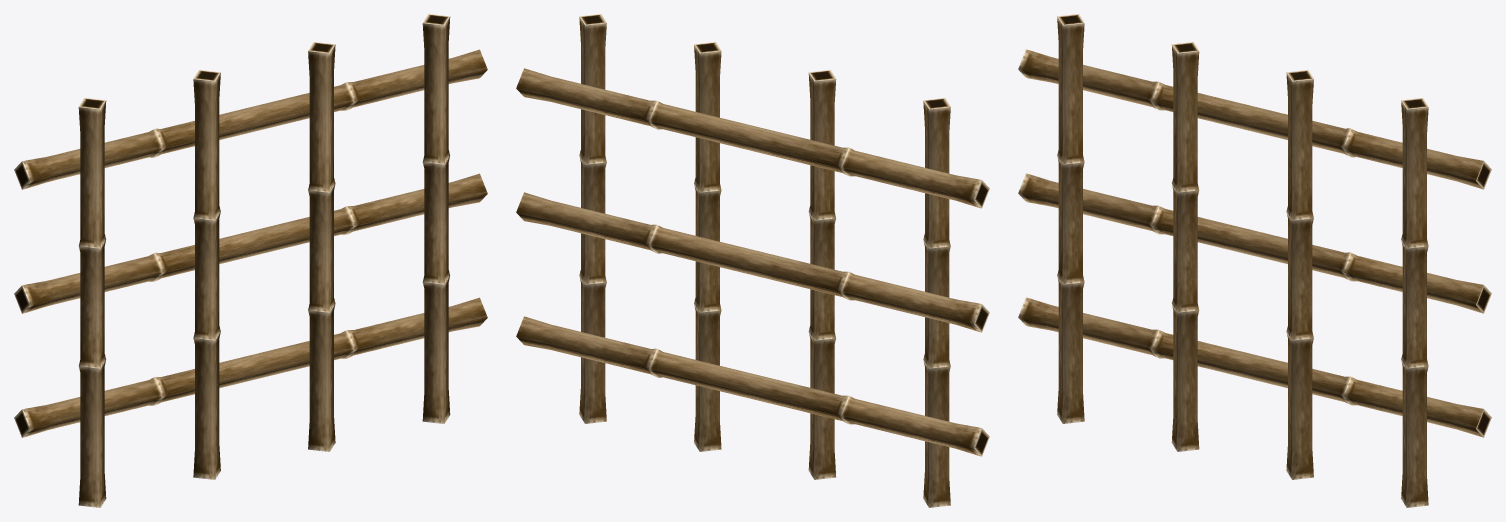
The model's file is bamboo_fence.fbx.
The picture shows the model from 3 angles, left to right: view 1: azimuth 30°, elevation 25°; view 2: azimuth 150°, elevation 25°; view 3: azimuth 330°, elevation 25°; orthographic projection.
Parts seen in each view (by area): view 1: bamboo_fence; view 2: bamboo_fence; view 3: bamboo_fence.
Boxes of the visible parts, box(x1,y1,x2,y2) form: bamboo_fence: box(14, 14, 487, 507); bamboo_fence: box(516, 14, 989, 507); bamboo_fence: box(1018, 14, 1491, 507).
Size of the model in its own units: 166 by 138 by 18.07.
